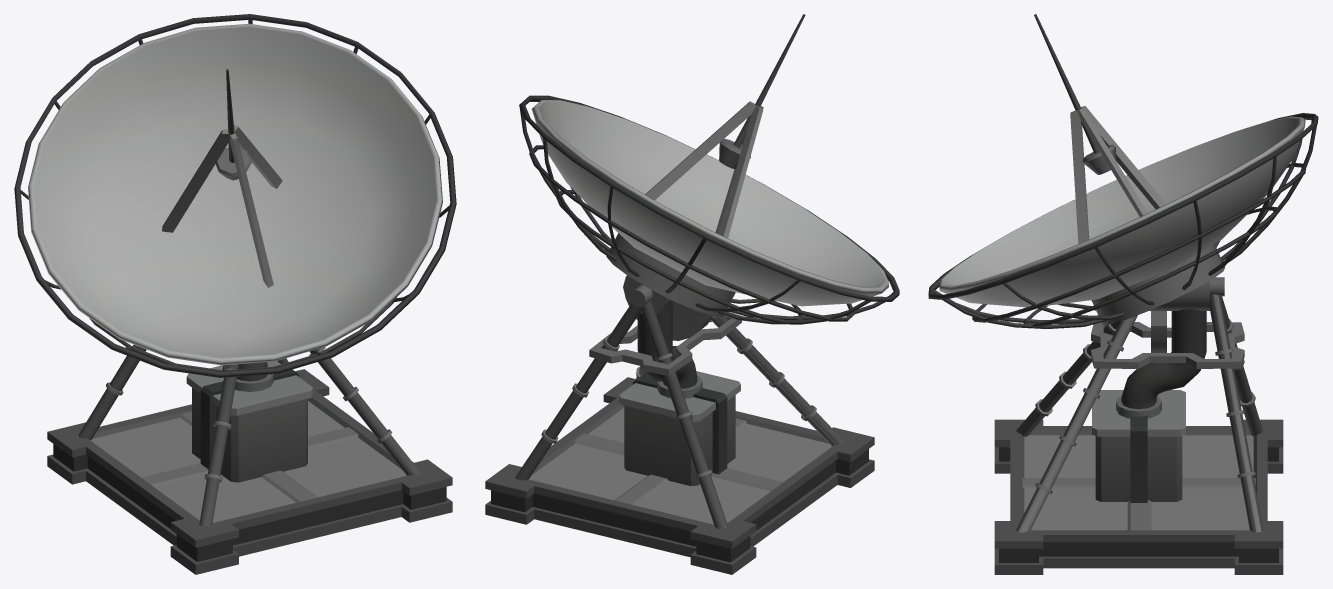
Rendered from antenna_001.fbx.
The picture shows the model from 3 angles, left to right: view 1: azimuth 30°, elevation 25°; view 2: azimuth 150°, elevation 25°; view 3: azimuth 270°, elevation 25°; orthographic projection. The views are drawn at different scales.
Parts seen in each view (by area): view 1: antenna_001; view 2: antenna_001; view 3: antenna_001.
Part boxes in pixels (bbox=[...]): antenna_001: bbox=[14, 14, 456, 574]; antenna_001: bbox=[485, 14, 899, 574]; antenna_001: bbox=[928, 14, 1318, 574].
Bounding box in the file's own units: 1735 × 1637 × 2148.
